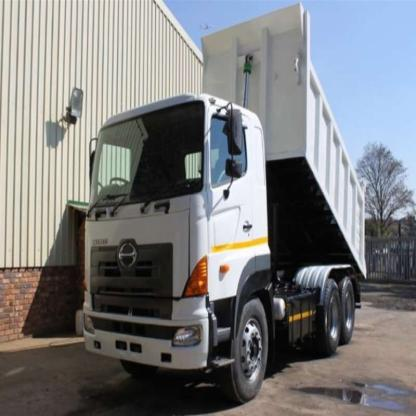dump_truck: (62, 0, 373, 406)
